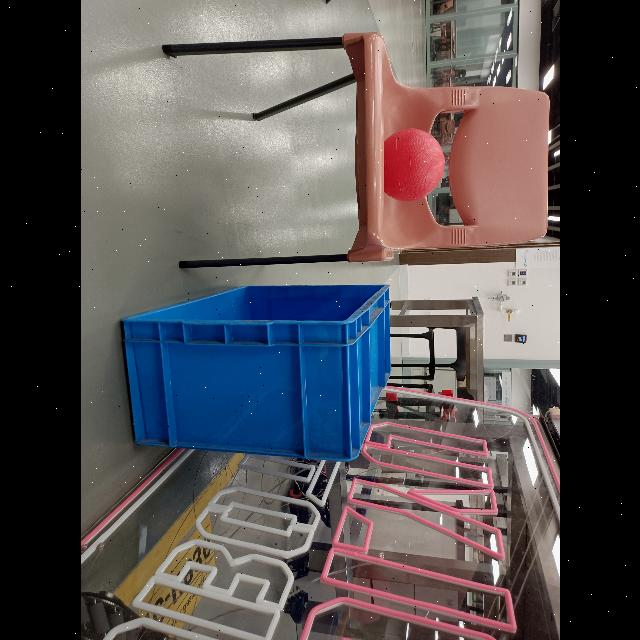R: (379, 128, 445, 202)
